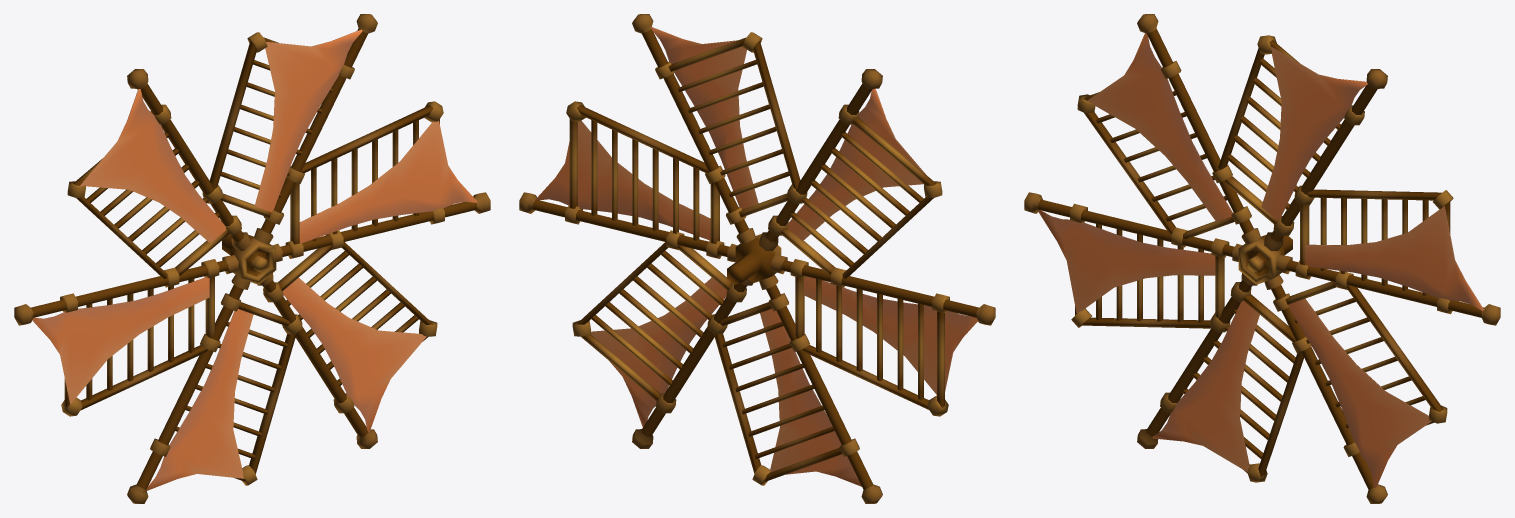
File: windmillBlades.fbx
3 views of the same model, side by side, from view 1: azimuth 30°, elevation 25°; view 2: azimuth 150°, elevation 25°; view 3: azimuth 330°, elevation 25° (orthographic).
Parts seen in each view (by area): view 1: windmillBlades; view 2: windmillBlades; view 3: windmillBlades.
Part boxes in pixels (x1,y1,x2,y2): windmillBlades: [14, 14, 490, 503]; windmillBlades: [519, 14, 995, 503]; windmillBlades: [1024, 14, 1500, 503].
Size of the model in its own units: 2126 by 1923 by 243.
